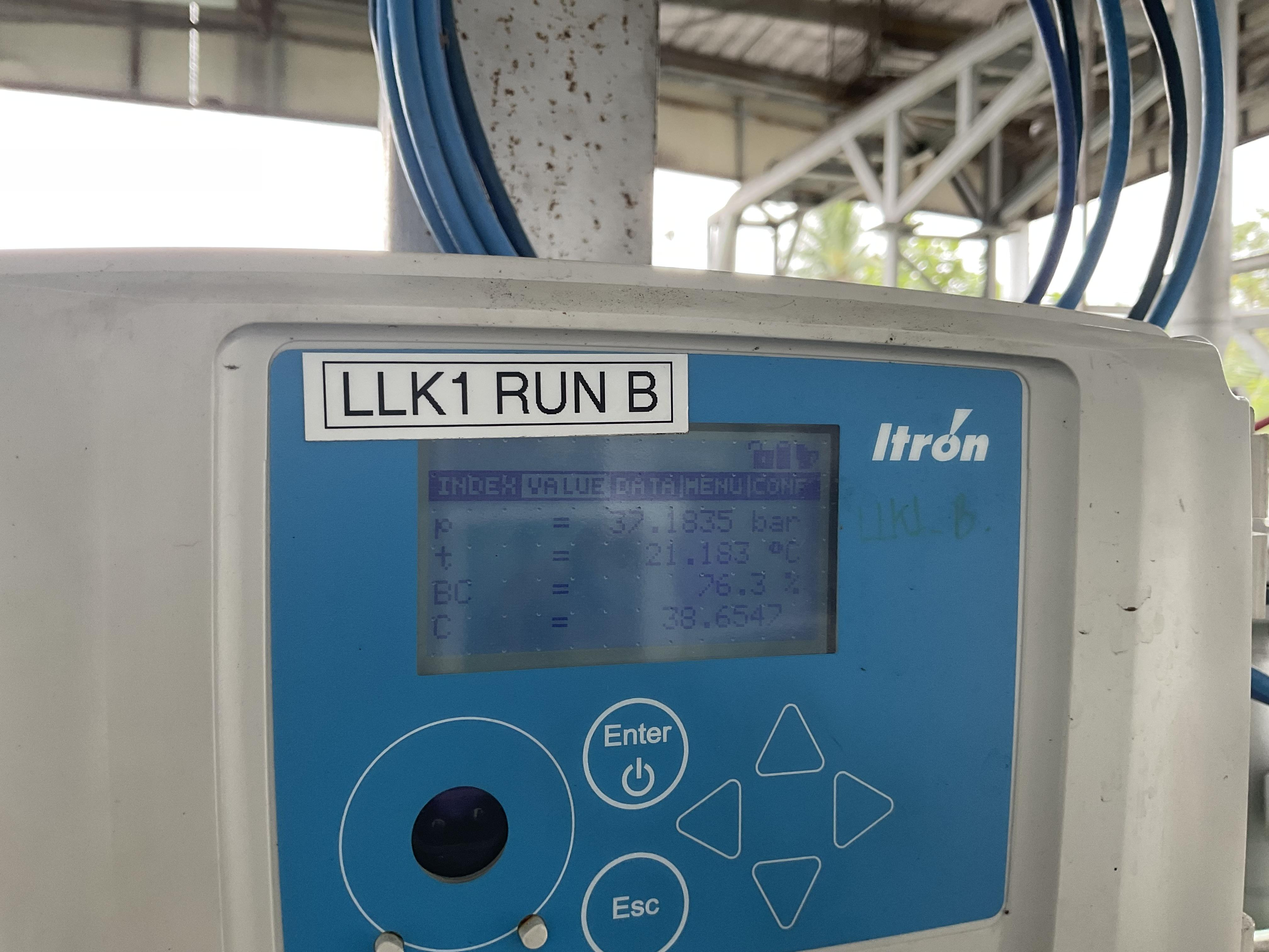digital_screen: (417, 420, 841, 675)
